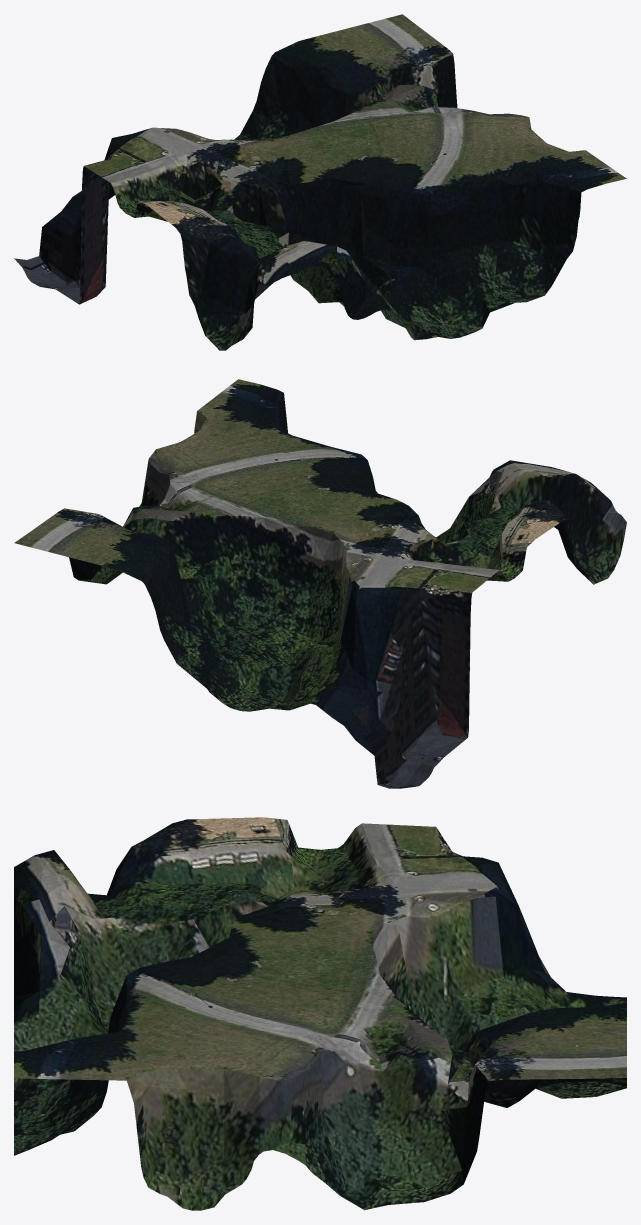
The model's file is map_15_8177_13791.dae.
The picture shows the model from 3 angles, top to bottom: view 1: azimuth 30°, elevation 25°; view 2: azimuth 150°, elevation 25°; view 3: azimuth 270°, elevation 25°; orthographic projection. The views are drawn at different scales.
Parts seen in each view (by area): view 1: Ter0; view 2: Ter0; view 3: Ter0.
Boxes of the visible parts, x1,y1,x2,y2 form: Ter0: (14, 14, 626, 350); Ter0: (14, 379, 626, 788); Ter0: (14, 817, 626, 1210).
Bounding box in the file's own units: 63.87 × 63.88 × 26.06.
Materials: 3 (3 with a texture image).
